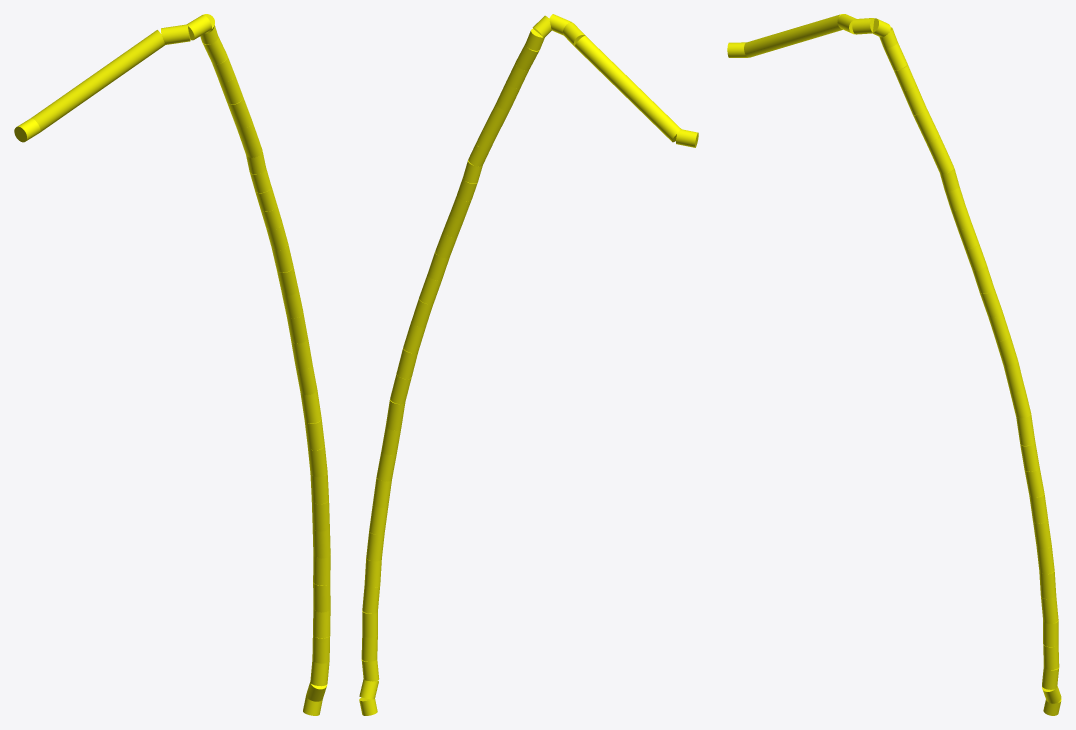
3 views of the same model, side by side, from view 1: azimuth 30°, elevation 25°; view 2: azimuth 150°, elevation 25°; view 3: azimuth 330°, elevation 25° (orthographic). The views are drawn at different scales.
Parts seen in each view (by area): view 1: Cylinder(Clone) (×3); view 2: Cylinder(Clone); view 3: Cylinder(Clone).
Part boxes in pixels (x1,y1,x2,y2): Cylinder(Clone) (×3): (31, 30, 329, 531); Cylinder(Clone): (575, 36, 681, 142); Cylinder(Clone): (744, 14, 842, 57).
Bounding box in the file's own units: 0.2267 × 0.4914 × 0.0651.
